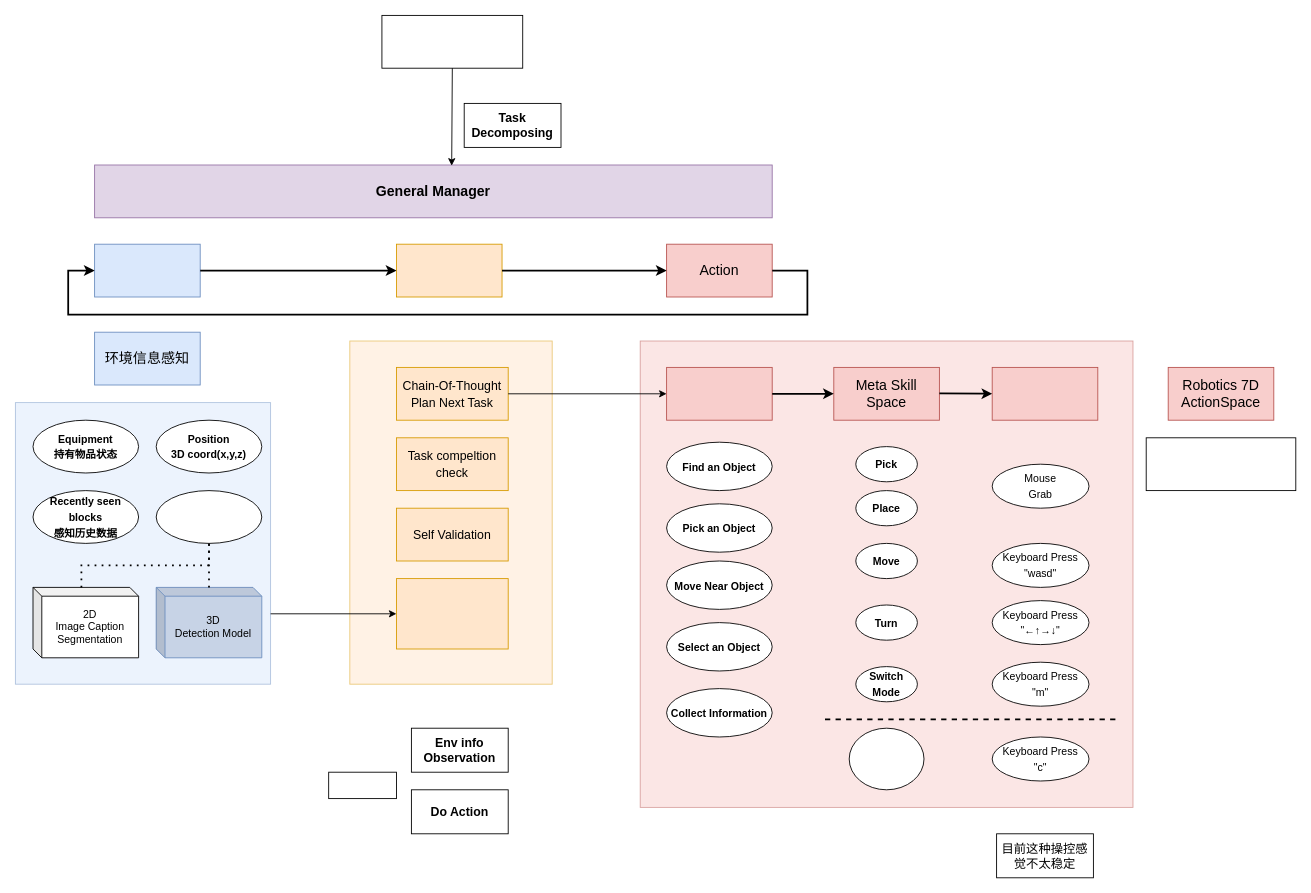
Some shapes in this 1311 by 893 pixel diagram are drawn without their labels. Each missing label, with the box of its shape:
collision detection: (848, 727, 924, 790)
Language Instruction: (381, 15, 523, 68)
Nearby entities 周围物体感知: (155, 490, 262, 543)
Plan: (396, 243, 502, 297)
Random: (328, 771, 396, 799)
Sense: (94, 243, 200, 297)
Skill Library Space: (666, 367, 772, 420)
User Interface ActionSpace: (991, 367, 1098, 420)
Vision-Language Model 结果解读: (396, 578, 508, 649)
与机械臂、轮子操控相关 (x, y, z, roll, yaw, pitch, gripper): (1145, 437, 1296, 491)
